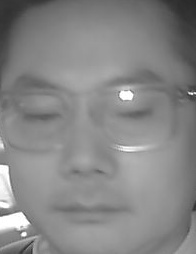eye: (25, 107, 60, 125), (118, 104, 152, 122)
glass: (89, 84, 178, 153), (1, 86, 71, 153)
mouth: (53, 192, 123, 231)
